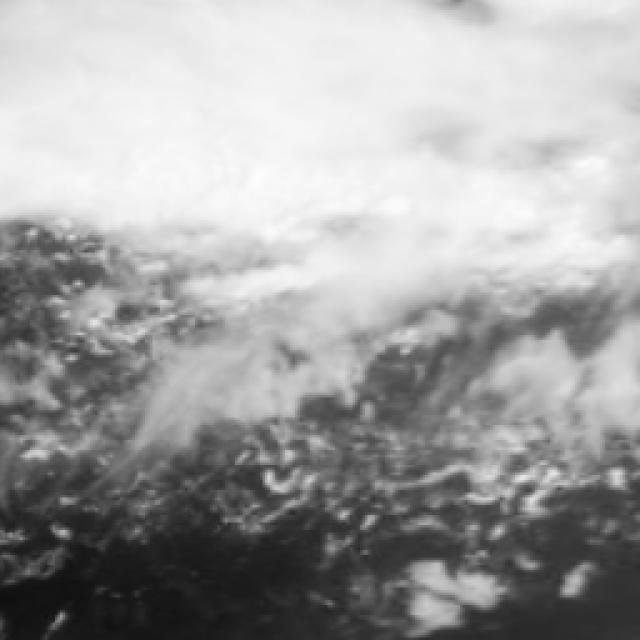CB: (0, 0, 417, 212), (369, 27, 640, 169)
